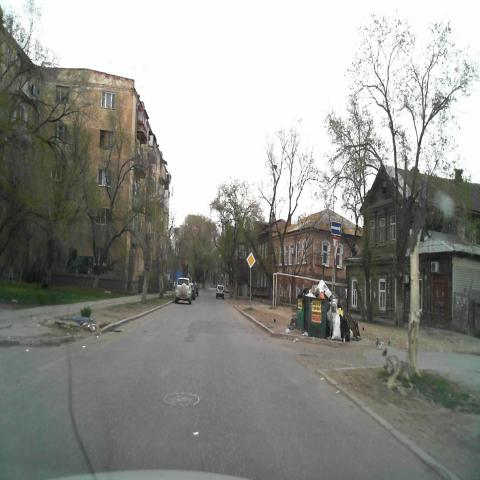5_7_1: (330, 221, 342, 235)
